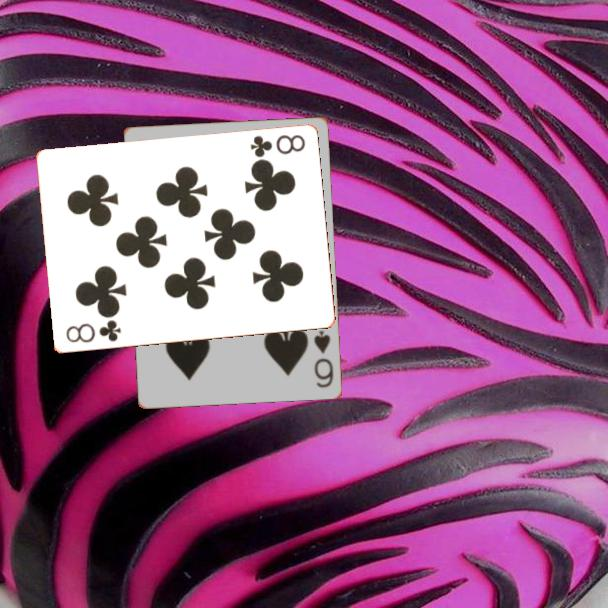c08: (246, 131, 308, 161), (62, 317, 124, 346)
s06: (310, 327, 336, 390)
